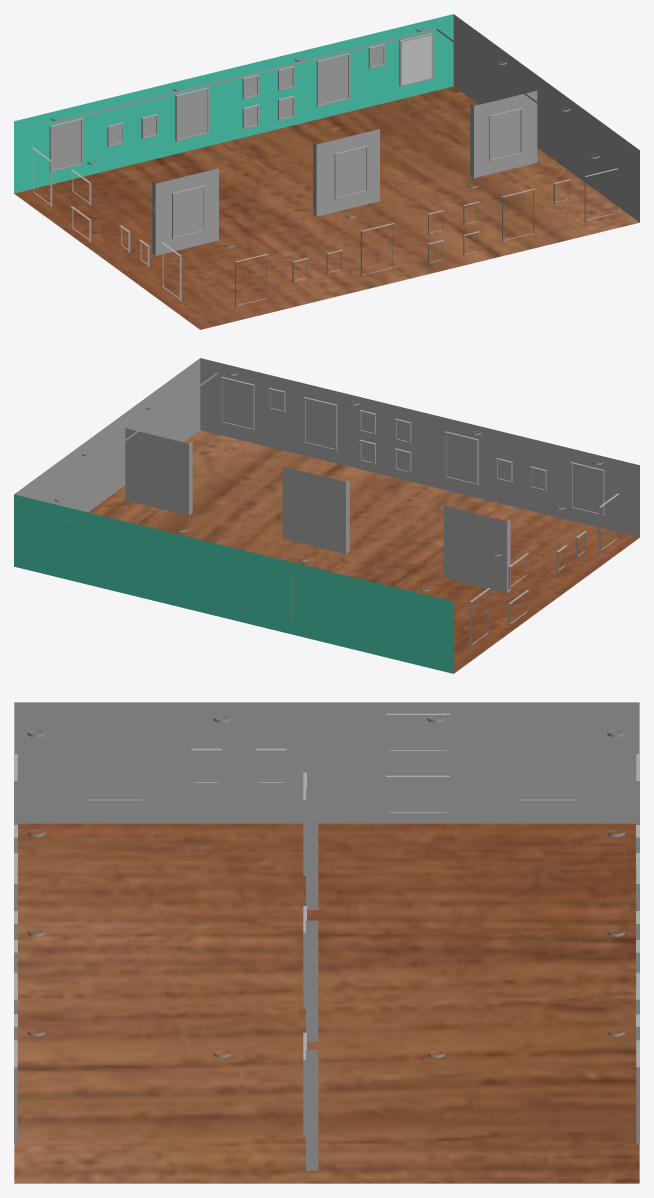
File: museuTexturachao.glb
The picture shows the model from 3 angles, top to bottom: view 1: azimuth 30°, elevation 25°; view 2: azimuth 150°, elevation 25°; view 3: azimuth 270°, elevation 25°; orthographic projection. The views are drawn at different scales.
Parts seen in each view (by area): view 1: Art_Room, PLANE_001; view 2: Art_Room; view 3: Art_Room, Lights.
Boxes of the visible parts, left/top/right/bottom form: Art_Room: left=14, top=14, right=639, bottom=329; PLANE_001: left=402, top=35, right=431, bottom=84; Art_Room: left=14, top=358, right=639, bottom=673; Art_Room: left=14, top=702, right=639, bottom=1183; Lights: left=27, top=716, right=624, bottom=1057.
Bounding box in the file's own units: 2764 × 447 × 2029.
4 materials, 1 textured.
